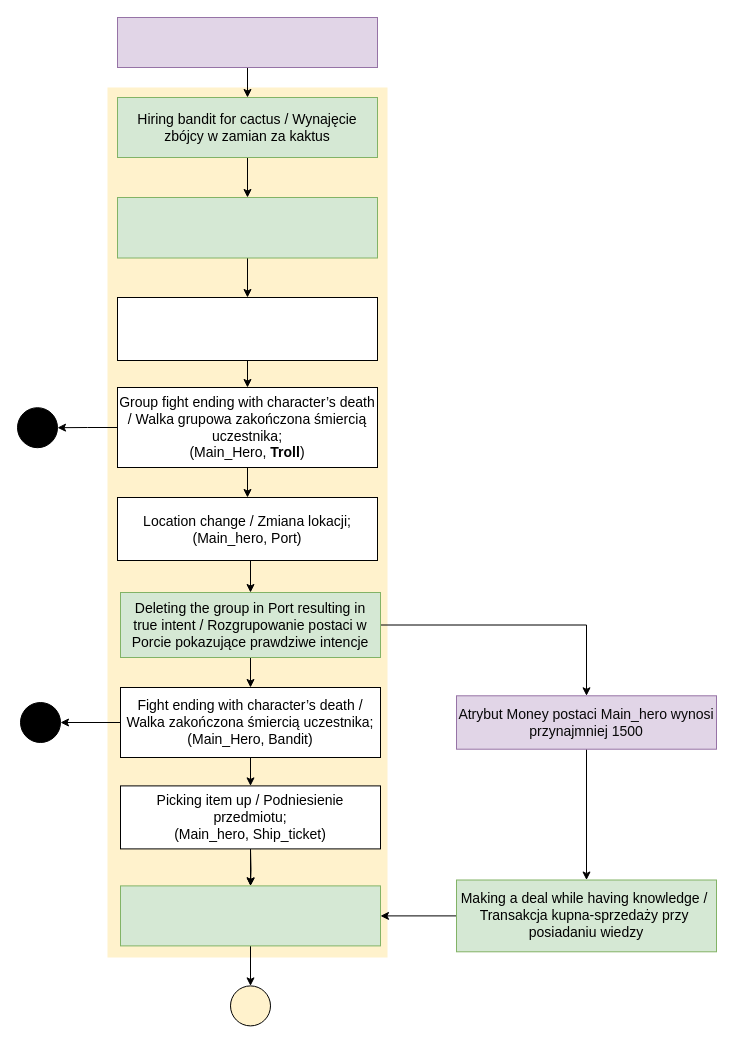
Image size: 734x1044. Some labels were removed from this diagram. The centre of each missing label's shape, as x and y in pixels:
(Main_hero posiada Priceless_argentinian_cactus, Q11): the point at 247,42
Entering the ship with the Ship_ticket / Wejście na statek z Ship_ticket: the point at 250,915
Location change / Zmiana lokacji ; (Main_hero, Forest): the point at 247,328
Main_hero grouping with Bandit / Main_hero grupuje się z Bandytą: the point at 247,227
